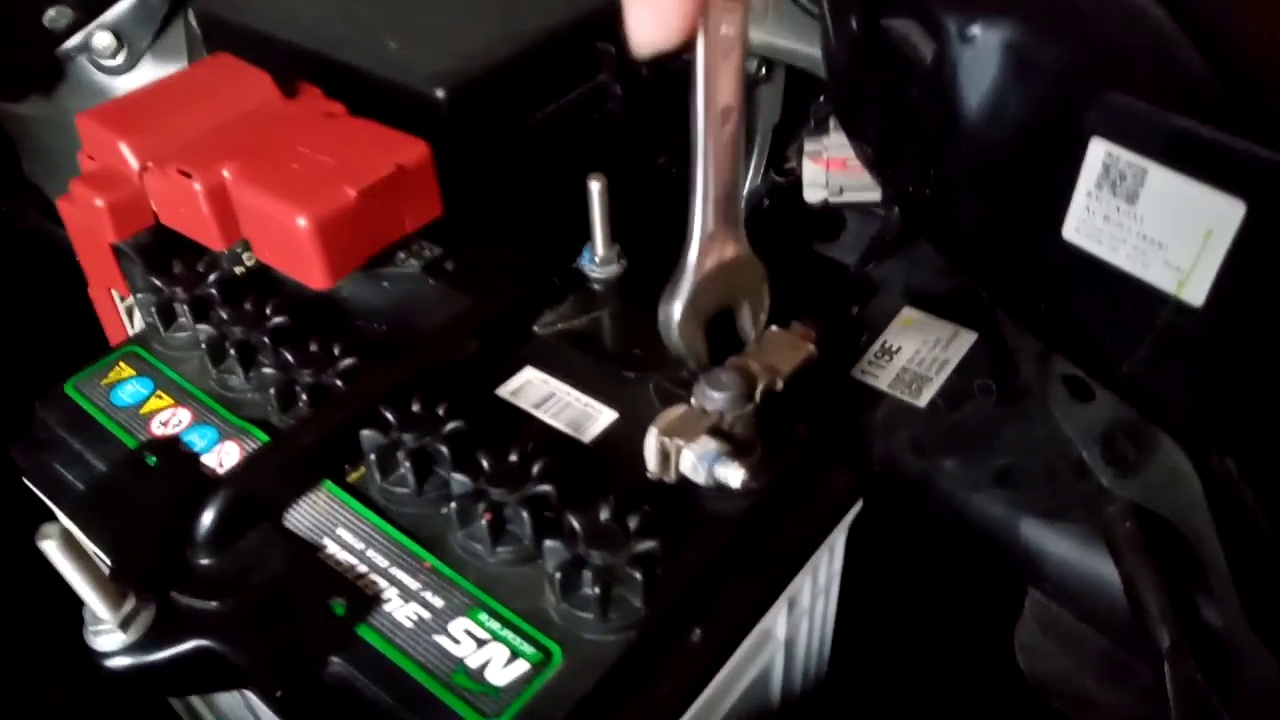battery: (20, 203, 861, 720)
neg_connected: (608, 299, 838, 514)
pos_connected: (12, 64, 433, 338)
